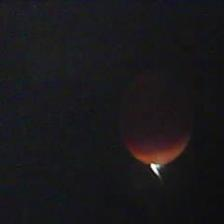fertile: (113, 65, 198, 167)
